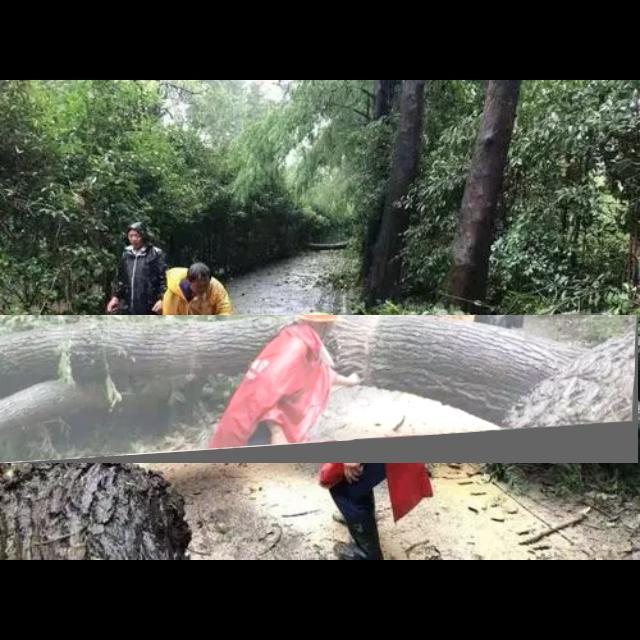fallen_tree: (0, 315, 639, 464)
